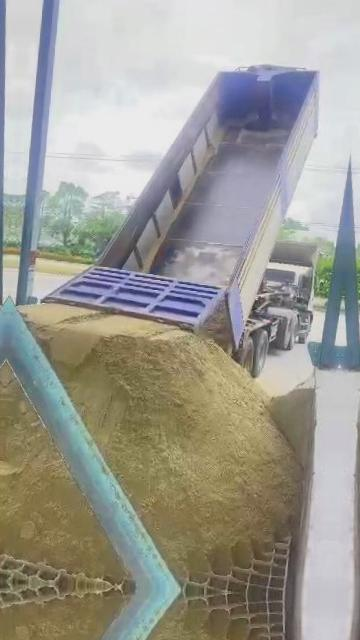sand: (25, 304, 299, 572), (0, 371, 122, 575), (269, 379, 315, 479)
